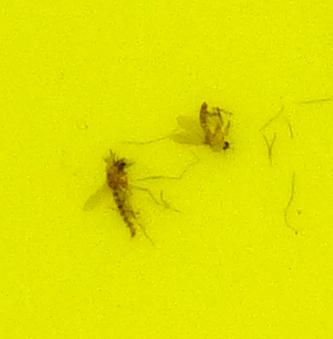Nematocera: (100, 150, 140, 239), (175, 100, 233, 154)
